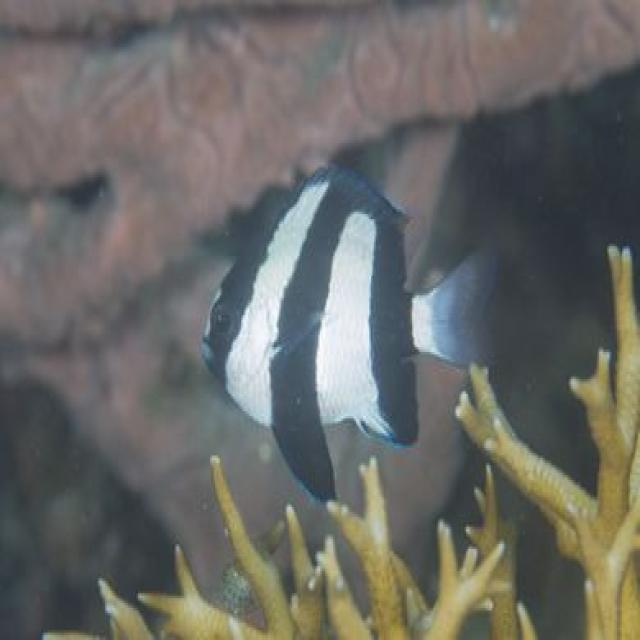ThreeStripedDamselfish: (200, 165, 497, 505)
